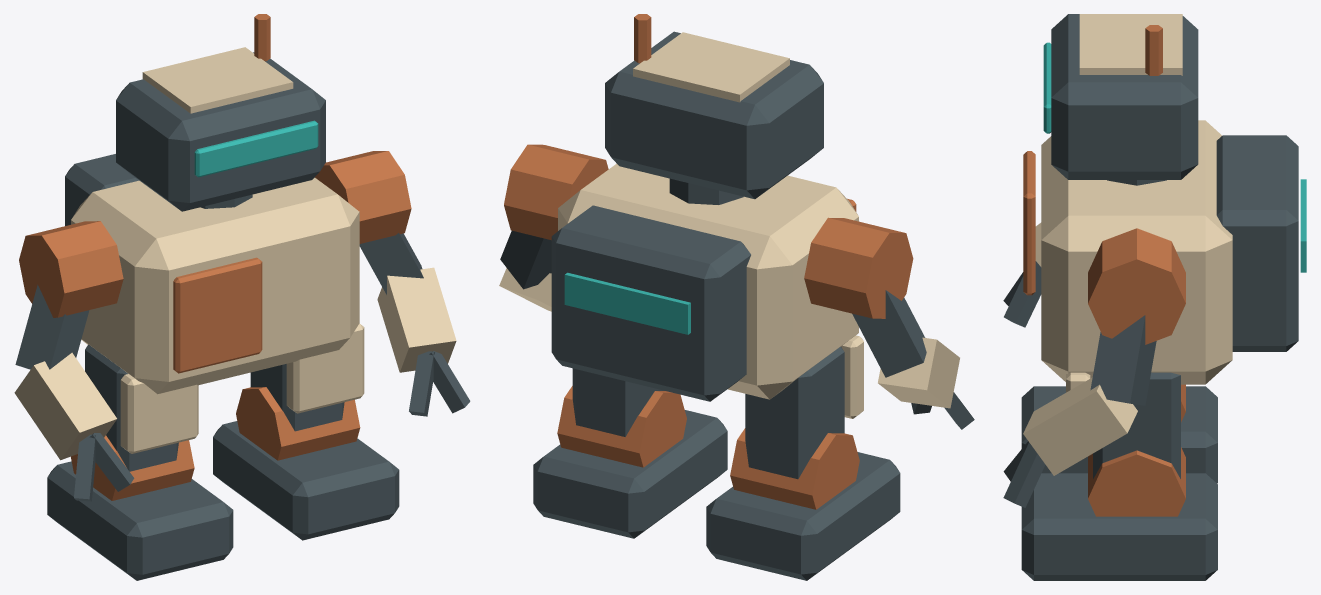
File: SM_SalvageBot.fbx
3 views of the same model, side by side, from view 1: azimuth 30°, elevation 25°; view 2: azimuth 150°, elevation 25°; view 3: azimuth 270°, elevation 25° (orthographic). The views are drawn at different scales.
Visible parts, largest first — view 1: SM_SalvageBot; view 2: SM_SalvageBot; view 3: SM_SalvageBot.
Boxes of the visible parts, x1,y1,x2,y2 form: SM_SalvageBot: (14, 14, 470, 580); SM_SalvageBot: (499, 14, 974, 580); SM_SalvageBot: (1003, 14, 1306, 580).
Bounding box in the file's own units: 1.04 × 0.6185 × 1.16.
